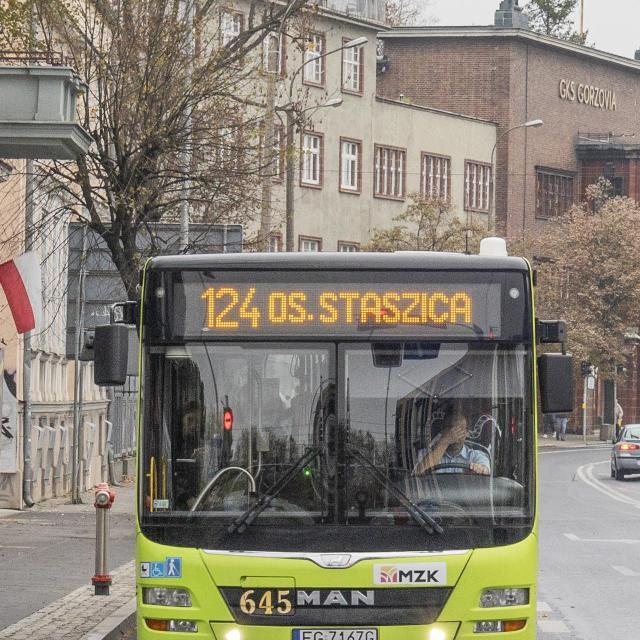Bus: (93, 238, 574, 640)
